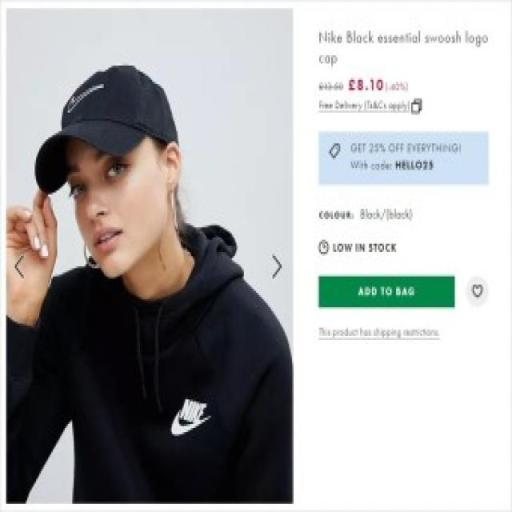Nike: (172, 416, 206, 436), (180, 400, 206, 420)
